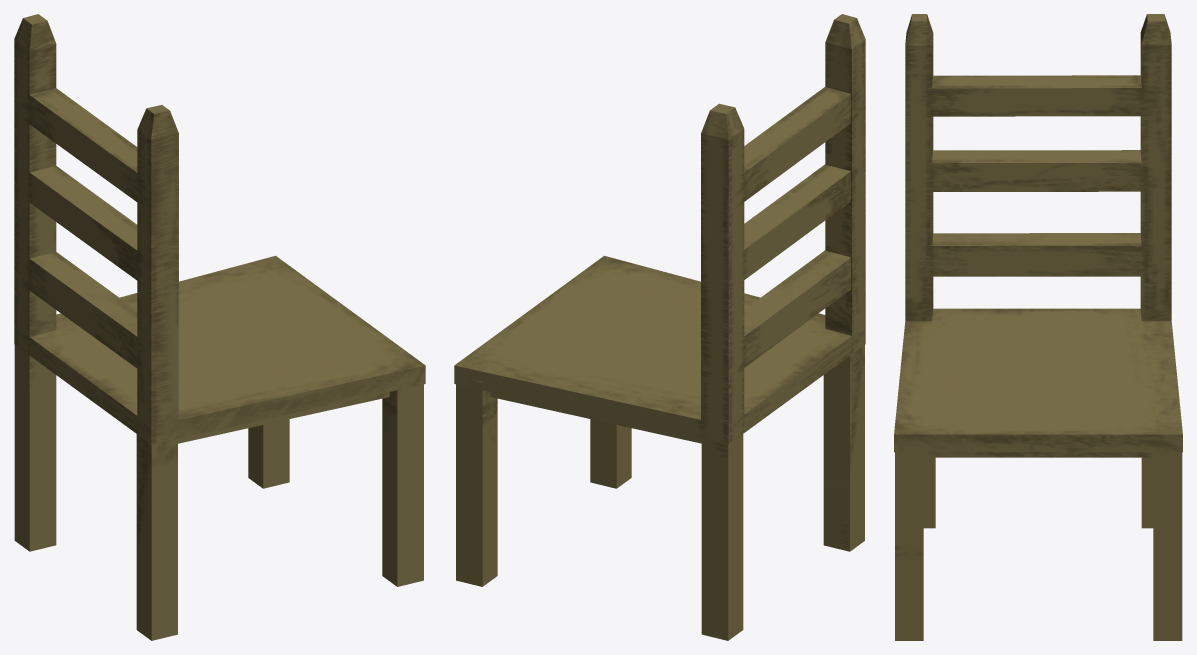
Rendered from silla__madera_para_texturizar.obj.
3 renders of one model, left to right at view 1: azimuth 30°, elevation 25°; view 2: azimuth 150°, elevation 25°; view 3: azimuth 270°, elevation 25°, orthographic. The views are drawn at different scales.
Visible parts, largest first — view 1: Cube.001; view 2: Cube.001; view 3: Cube.001.
Boxes of the visible parts, x1,y1,x2,y2 form: Cube.001: [14, 14, 425, 640]; Cube.001: [454, 14, 865, 640]; Cube.001: [894, 14, 1182, 640].
Size of the model in its own units: 0.82 by 1.53 by 0.795.
1 material, 1 textured.
